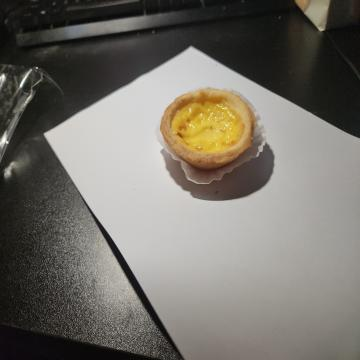EggTart: (161, 86, 256, 170)
